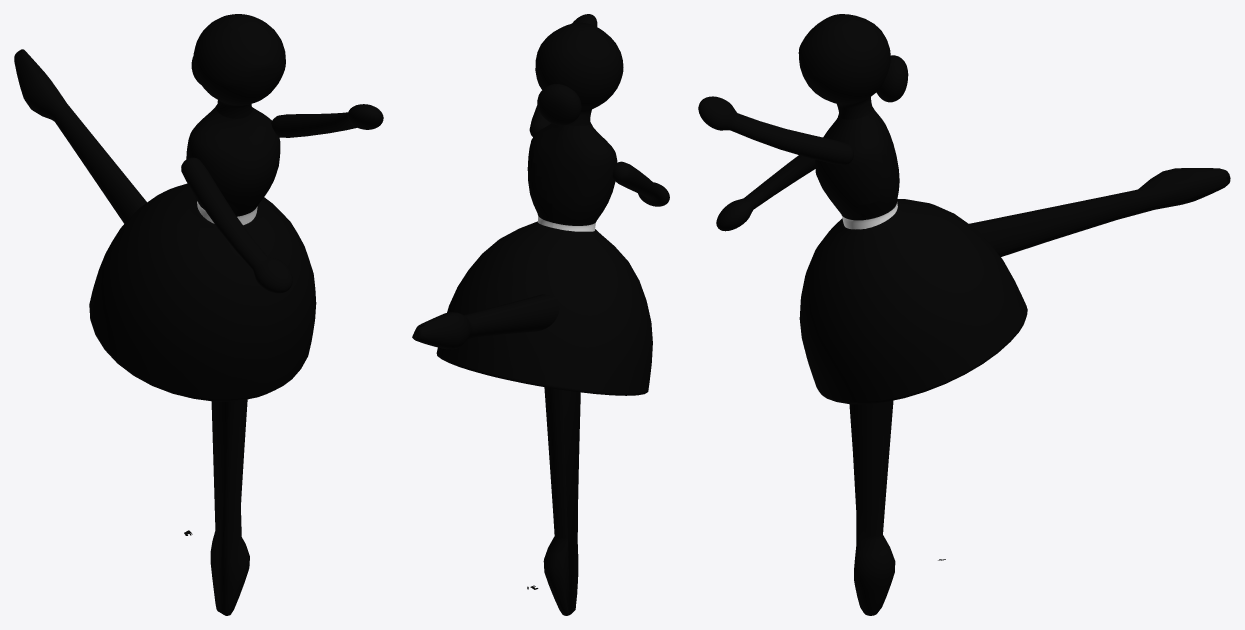
File: doll_draft.glb
3 views of the same model, side by side, from view 1: azimuth 30°, elevation 25°; view 2: azimuth 150°, elevation 25°; view 3: azimuth 270°, elevation 25° (orthographic). The views are drawn at different scales.
Visible parts, largest first — view 1: skirt, doll head, torso, left leg, right leg, right arm, left arm; view 2: skirt, torso, left leg, doll head, right leg, bun, right arm, left arm; view 3: skirt, right leg, left leg, doll head, torso, left arm, right arm, bun.
Part boxes in pixels (x1=…): skirt: x1=89, y1=183, x2=316, y2=401; doll head: x1=193, y1=14, x2=285, y2=118; torso: x1=184, y1=104, x2=280, y2=535; left leg: x1=210, y1=399, x2=249, y2=615; right leg: x1=14, y1=49, x2=146, y2=223; right arm: x1=181, y1=157, x2=292, y2=293; left arm: x1=271, y1=104, x2=383, y2=137; skirt: x1=436, y1=221, x2=652, y2=395; torso: x1=527, y1=122, x2=617, y2=589; left leg: x1=543, y1=387, x2=580, y2=615; doll head: x1=535, y1=22, x2=623, y2=125; right leg: x1=412, y1=294, x2=559, y2=349; bun: x1=537, y1=84, x2=581, y2=125; right arm: x1=612, y1=161, x2=669, y2=206; left arm: x1=529, y1=14, x2=597, y2=136; skirt: x1=799, y1=199, x2=1027, y2=404; right leg: x1=969, y1=168, x2=1230, y2=256; left leg: x1=849, y1=400, x2=895, y2=615; doll head: x1=798, y1=14, x2=890, y2=119; torso: x1=815, y1=107, x2=945, y2=560; left arm: x1=698, y1=96, x2=853, y2=165; right arm: x1=716, y1=155, x2=815, y2=231; bun: x1=876, y1=55, x2=908, y2=102.
Size of the model in its own units: 0.2044 by 0.606 by 0.4897.
1 material, 1 textured.
